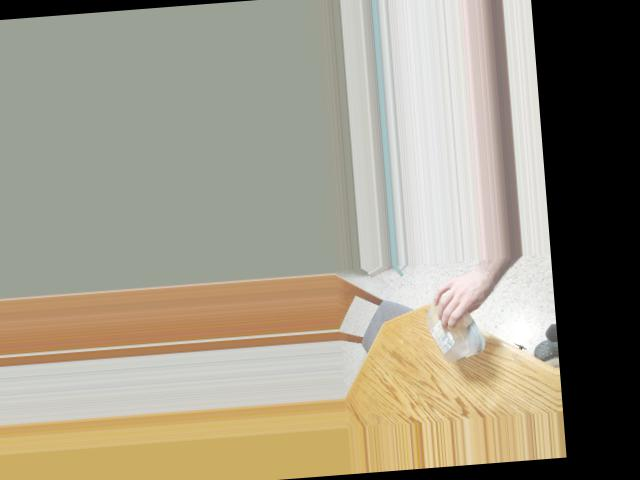cheese: (433, 297, 479, 359)
